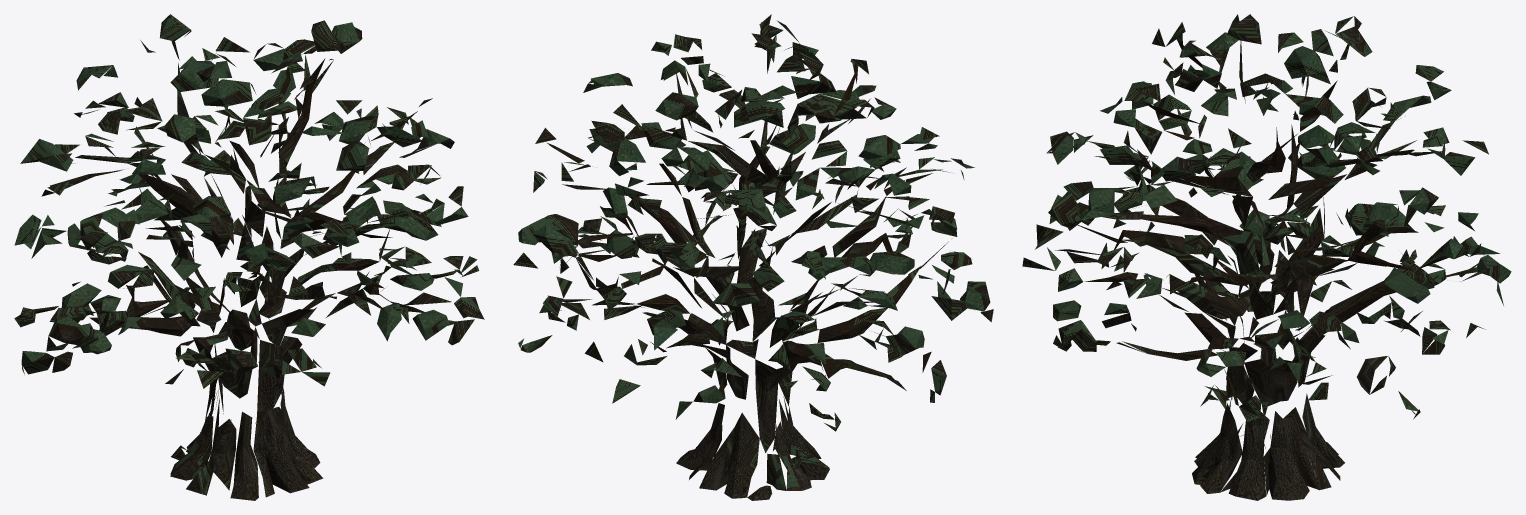
File: nat_oak_a_LOD1.glb
3 renders of one model, left to right at view 1: azimuth 30°, elevation 25°; view 2: azimuth 150°, elevation 25°; view 3: azimuth 270°, elevation 25°, orthographic. The views are drawn at different scales.
Parts seen in each view (by area): view 1: geometry_0; view 2: geometry_0; view 3: geometry_0.
Boxes of the visible parts, x1,y1,x2,y2 form: geometry_0: (14,14,484,500); geometry_0: (513,14,993,500); geometry_0: (1022,14,1511,500).
Size of the model in its own units: 9.57 by 8.99 by 9.05.
Materials: 1 (1 with a texture image).
